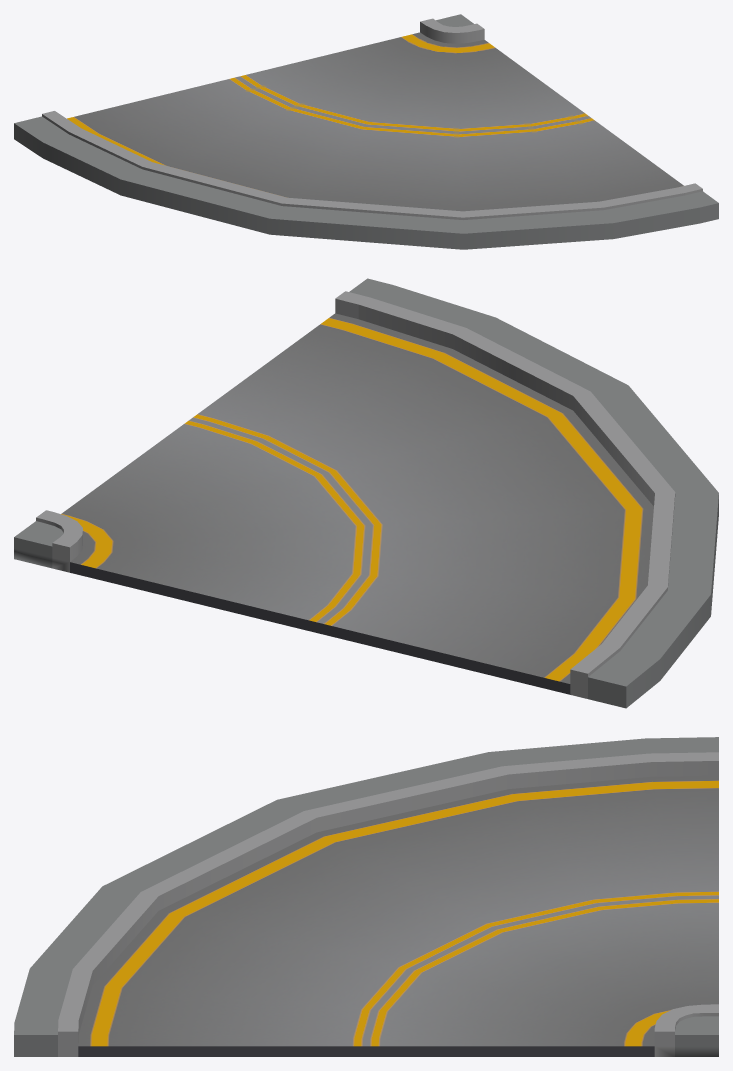
Rendered from Road10_90angle_Corner.fbx.
The picture shows the model from 3 angles, top to bottom: view 1: azimuth 30°, elevation 25°; view 2: azimuth 150°, elevation 25°; view 3: azimuth 270°, elevation 25°; orthographic projection. The views are drawn at different scales.
Parts seen in each view (by area): view 1: Road10_90angle_Corner; view 2: Road10_90angle_Corner; view 3: Road10_90angle_Corner.
Part boxes in pixels (x1=…): Road10_90angle_Corner: x1=14, y1=14, x2=718, y2=249; Road10_90angle_Corner: x1=14, y1=278, x2=718, y2=708; Road10_90angle_Corner: x1=14, y1=737, x2=718, y2=1056.
Bounding box in the file's own units: 12 × 0.4754 × 12.
